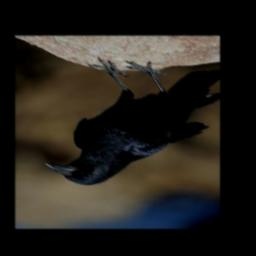Crow: (42, 57, 219, 187)
